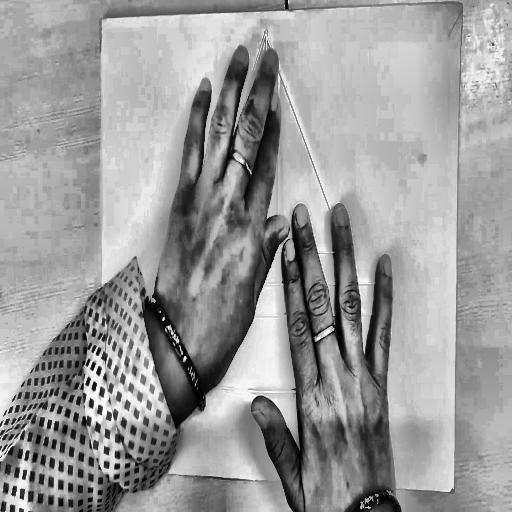boat: (146, 18, 399, 408)
bottom_left: (103, 453, 112, 469)
bottom_right: (448, 481, 458, 501)
top_left: (97, 12, 106, 29)
top_right: (457, 0, 466, 14)
